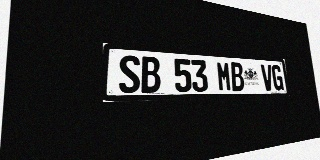3: (191, 59, 208, 92)
5: (174, 58, 192, 92)
B: (140, 56, 161, 93), (230, 62, 245, 91)
G: (271, 65, 284, 90)
M: (216, 61, 232, 91)
S: (119, 55, 141, 93)
V: (260, 64, 274, 91)
